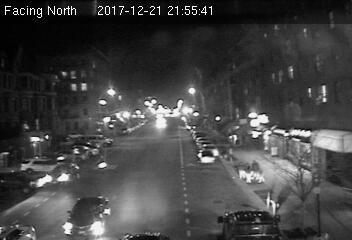car: (62, 194, 109, 238), (44, 163, 80, 183), (196, 149, 216, 164)
